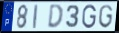3: (65, 4, 81, 29)
8: (16, 4, 30, 30)
D: (46, 4, 64, 30)
G: (82, 4, 98, 30), (98, 4, 114, 29)
I: (33, 4, 39, 30)
